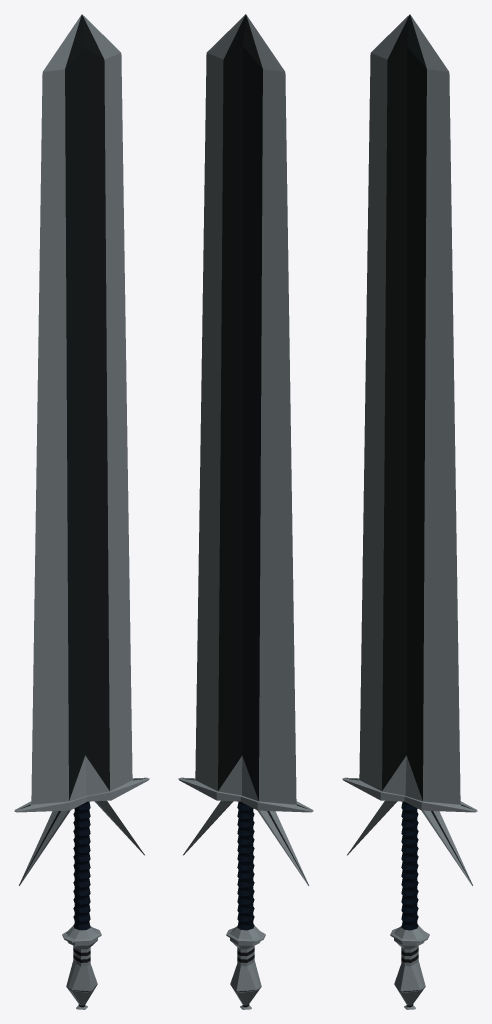
The model's file is Greatsword_mk_2.fbx.
3 renders of one model, left to right at view 1: azimuth 30°, elevation 25°; view 2: azimuth 150°, elevation 25°; view 3: azimuth 330°, elevation 25°, orthographic.
Parts seen in each view (by area): view 1: Greatsword_mk_2; view 2: Greatsword_mk_2; view 3: Greatsword_mk_2.
Boxes of the visible parts, x1,y1,x2,y2 form: Greatsword_mk_2: (14,14,149,1009); Greatsword_mk_2: (178,14,313,1009); Greatsword_mk_2: (342,14,477,1009).
Bounding box in the file's own units: 29.98 × 7.25 × 211.
